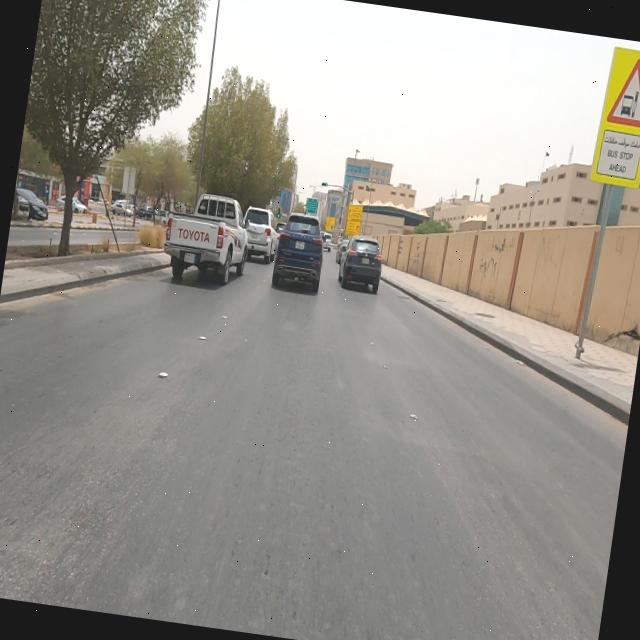Graffiti: (476, 234, 515, 282), (537, 237, 562, 284), (613, 237, 627, 260)
